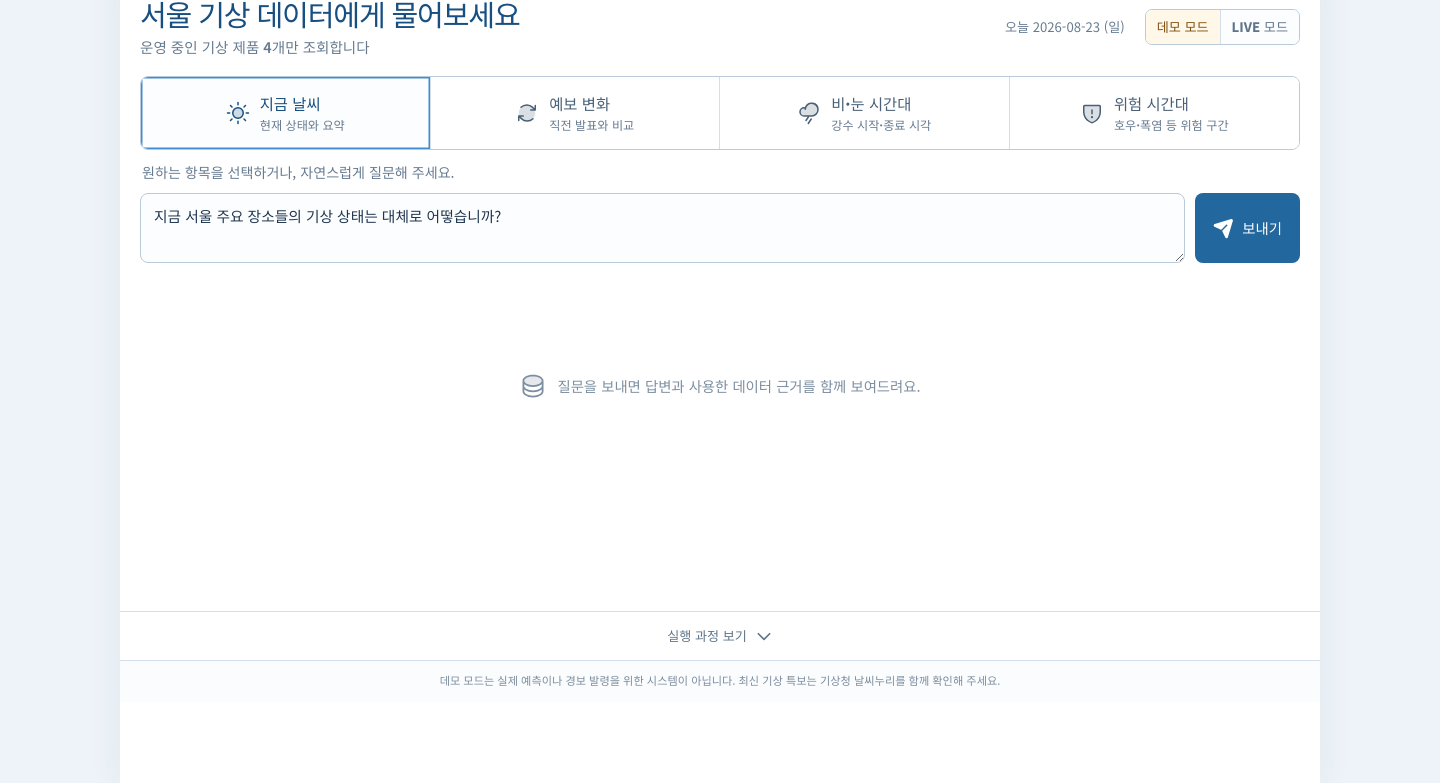
Test: ASK Seoul 기상 에이전트 UI › 질문과 답변을 대화로 보여주고 trace는 접힌 실행 과정 안에서만 노출한다
Expected: the navigation bar named "기상 질문 유형" is shown, [140,76,1300,150]
Replace the text in the text box named "질문" with "폭염이나 호우 위험 시간대를 알려줘" at (663, 228), box [140,193,1185,263]
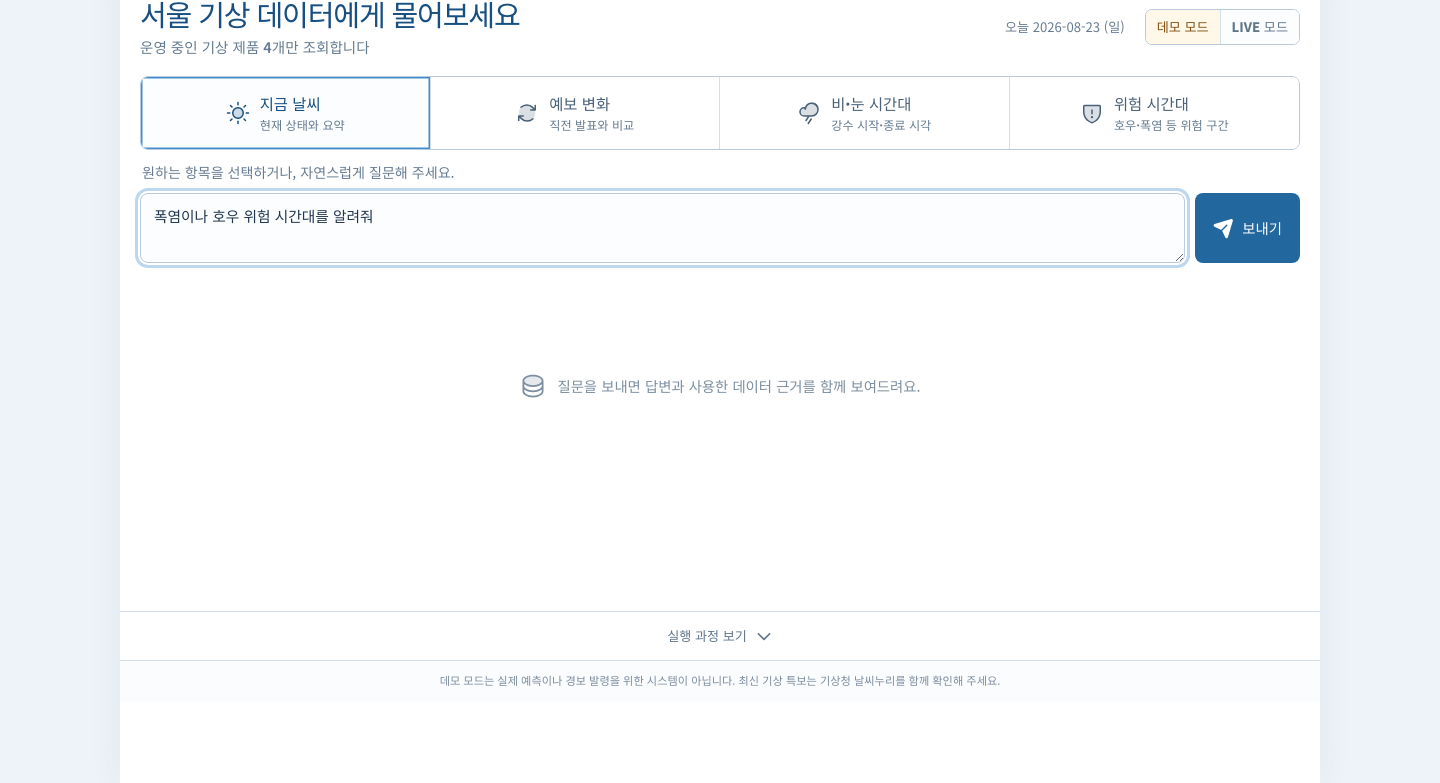
Click the button with aria-label "질문 보내기" at (1248, 228), box [1195,193,1300,263]
(page scrolled)
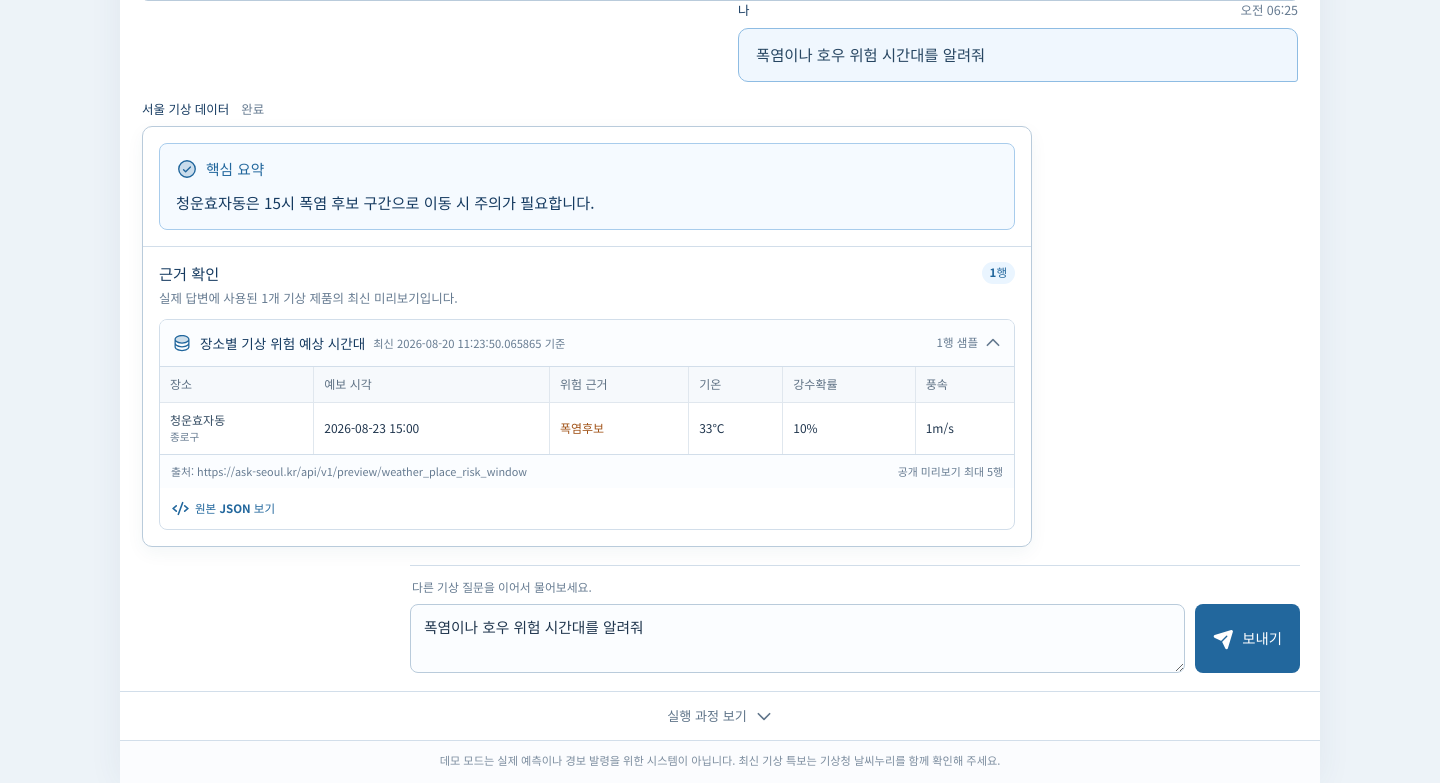
Expected: the element named "서울 기상 데이터 답변" is shown, [142,100,1032,548]
Expected: the text "폭염이나 호우 위험 시간대를 알려줘" is shown, [738,28,1298,82]
Expected: the text "청운효자동은 15시 폭염 후보 구간으로 이동 시 주의가 필요합니다." is shown, [176,191,594,213]
Click the button "실행 과정 보기" at (720, 716), box [120,692,1320,740]
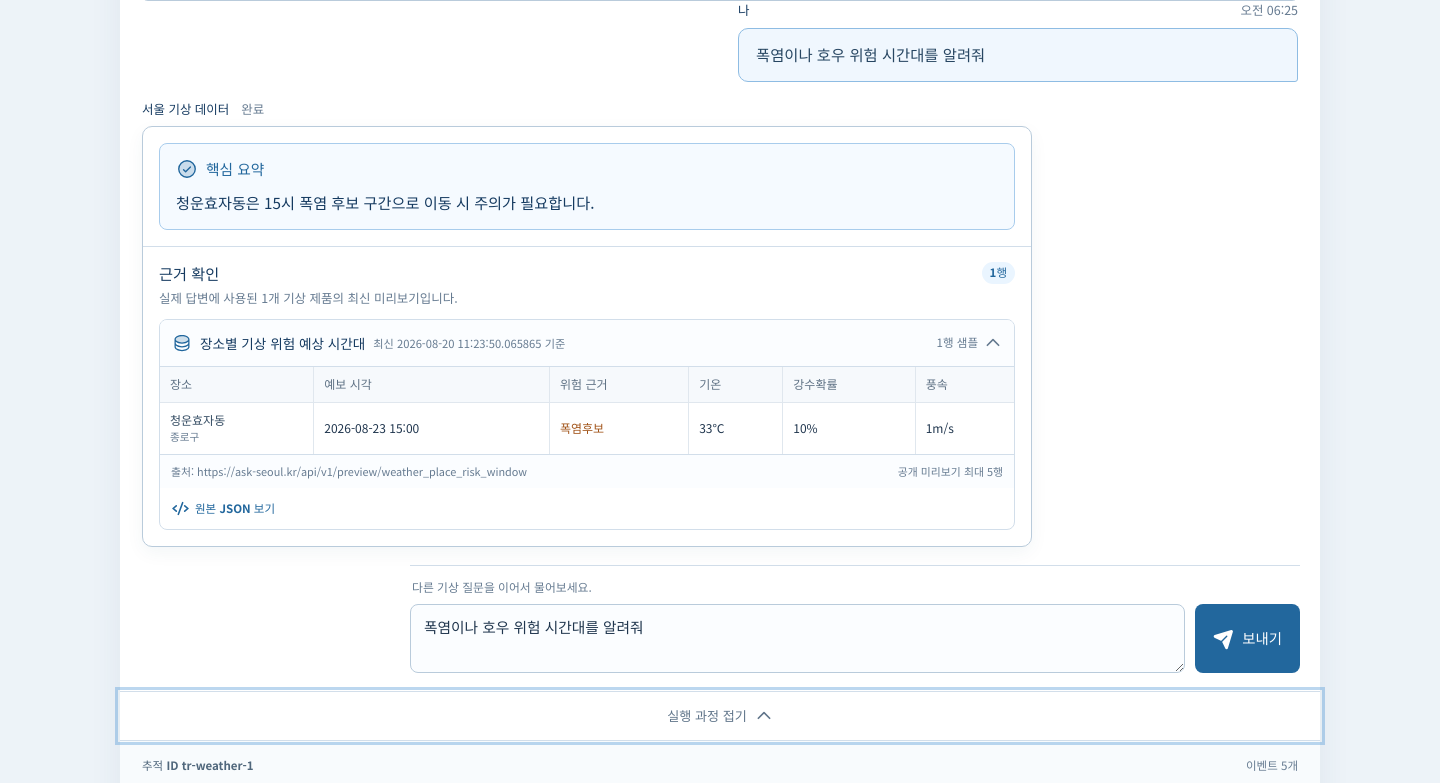
Expected: the text "추적 ID tr-weather-1" is shown, [142,757,254,775]
Expected: the button "실행 과정 접기" is shown, [120,692,1320,740]
